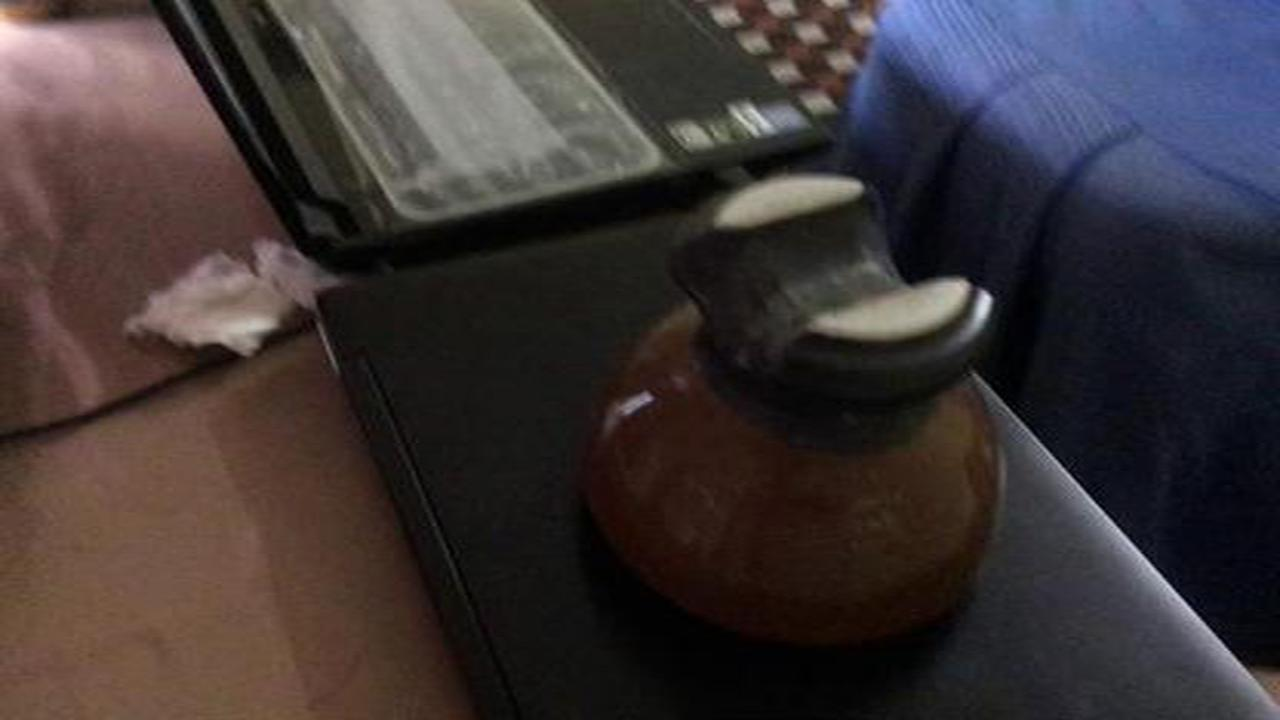insulator_pin: (564, 153, 1044, 674)
